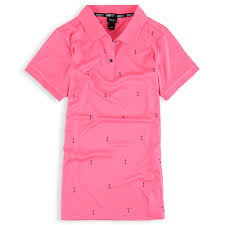S_polo shirt: (28, 3, 191, 225)
